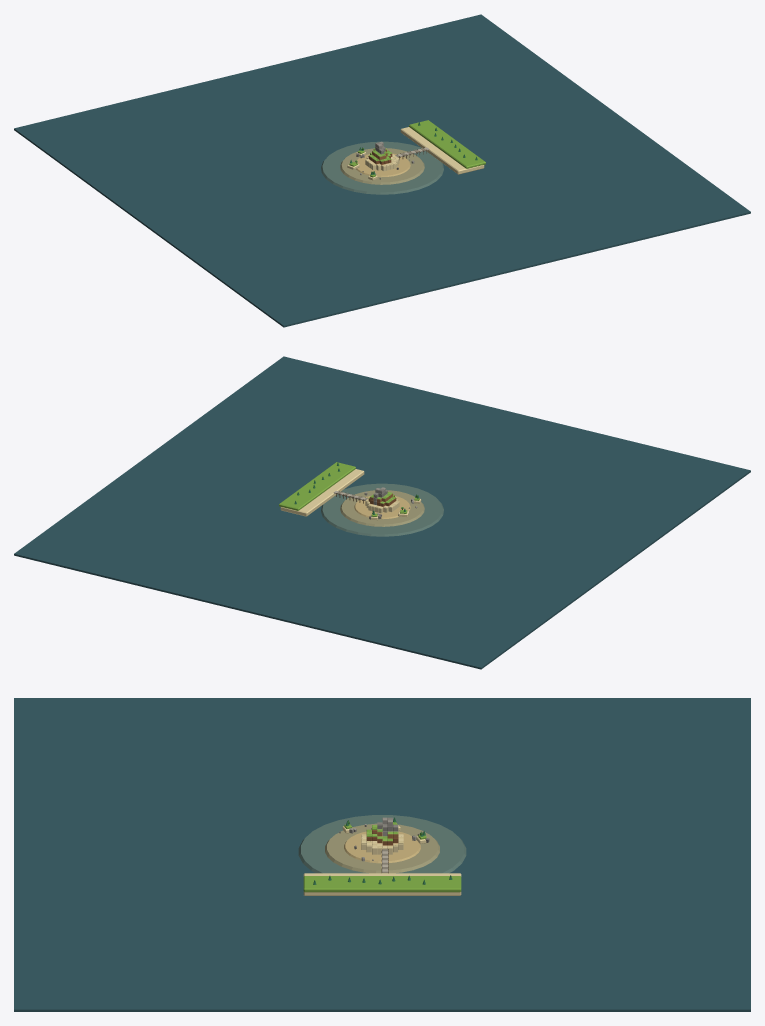
Rendered from island-lighthouse.glb.
3 renders of one model, top to bottom at view 1: azimuth 30°, elevation 25°; view 2: azimuth 150°, elevation 25°; view 3: azimuth 270°, elevation 25°, orthographic. The views are drawn at different scales.
Visible parts, largest first — view 1: The Lighthouse; view 2: The Lighthouse; view 3: The Lighthouse.
Part boxes in pixels (x1,y1,x2,y2): The Lighthouse: (14, 14, 750, 327); The Lighthouse: (14, 356, 750, 669); The Lighthouse: (14, 698, 750, 1011).
Size of the model in its own units: 140 by 7.7 by 140.
